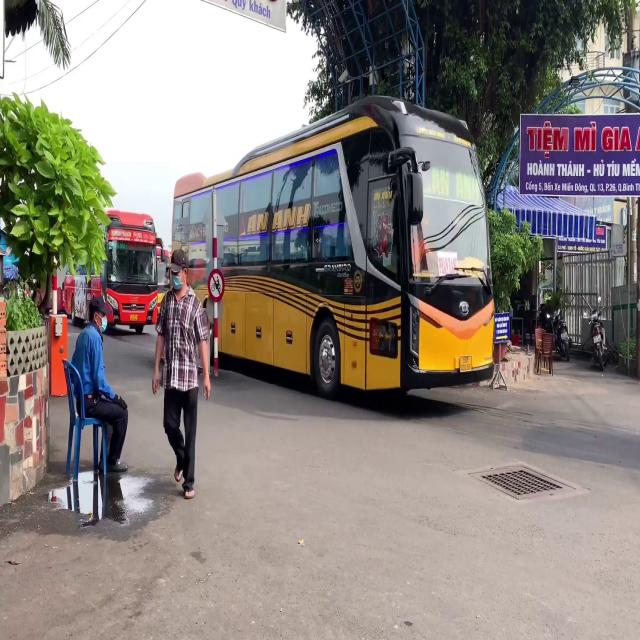bien_vang: (460, 355, 472, 372)
